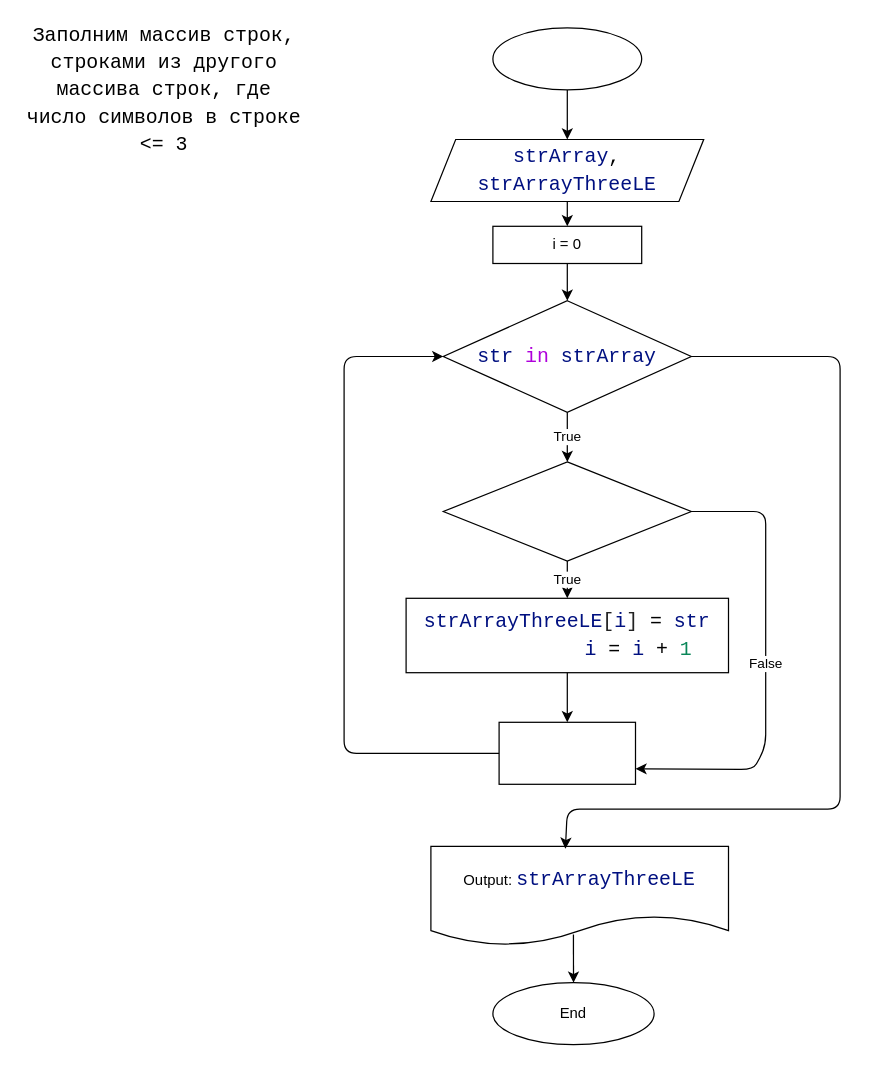
Image size: 872x1066. Some labels were removed from this diagram. The shapes that lost their labels are listed below. From the top down, each one's centre as x and y in pixels, then its label:
the point at 567,58: Start
the point at 566,511: str . Length <= 3
the point at 567,752: str = Next()
